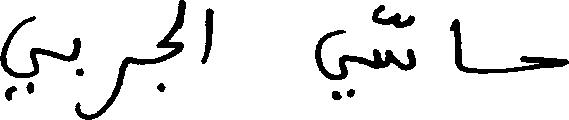X: (0, 11, 46, 105), (375, 0, 414, 75), (158, 0, 185, 96), (316, 25, 347, 104), (96, 53, 125, 119), (521, 51, 568, 75), (70, 33, 79, 119), (452, 14, 464, 76), (203, 3, 211, 68)
